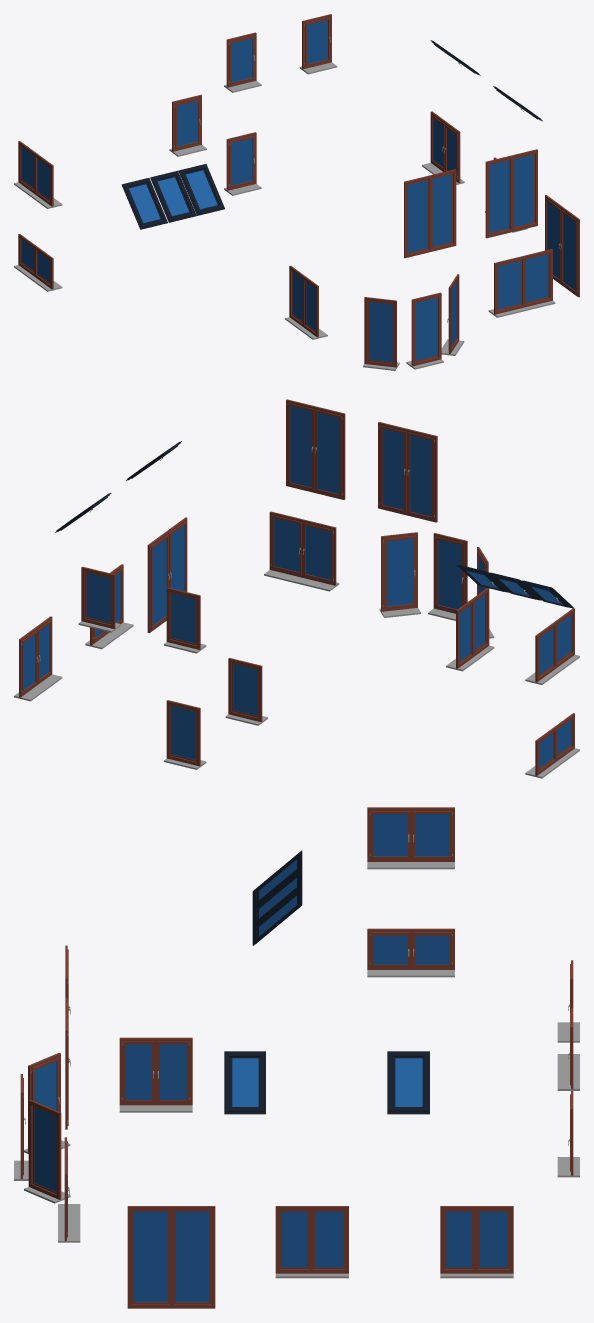
Rendered from house_glass_pieces.obj.
3 views of the same model, one above another, from view 1: azimuth 30°, elevation 25°; view 2: azimuth 150°, elevation 25°; view 3: azimuth 270°, elevation 25° (orthographic). The views are drawn at different scales.
Visible parts, largest first — view 1: window.011_Cube.018, window_roof_Cube.068; view 2: window.011_Cube.018, window_roof_Cube.068; view 3: window.011_Cube.018, window_roof_Cube.068.
Boxes of the visible parts, x1,y1,x2,y2 form: window.011_Cube.018: (14,14,579,370); window_roof_Cube.068: (121,40,542,229); window.011_Cube.018: (14,399,579,778); window_roof_Cube.068: (55,441,573,608); window.011_Cube.018: (14,807,579,1308); window_roof_Cube.068: (224,850,429,1114).
Bounding box in the file's own units: 13.79 × 5.35 × 11.62.
